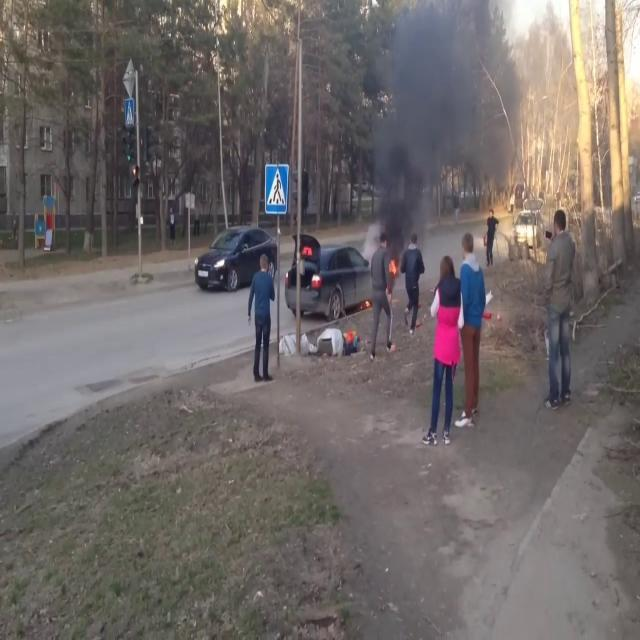Fire: (388, 254, 400, 284)
Smoke: (361, 2, 501, 251)
